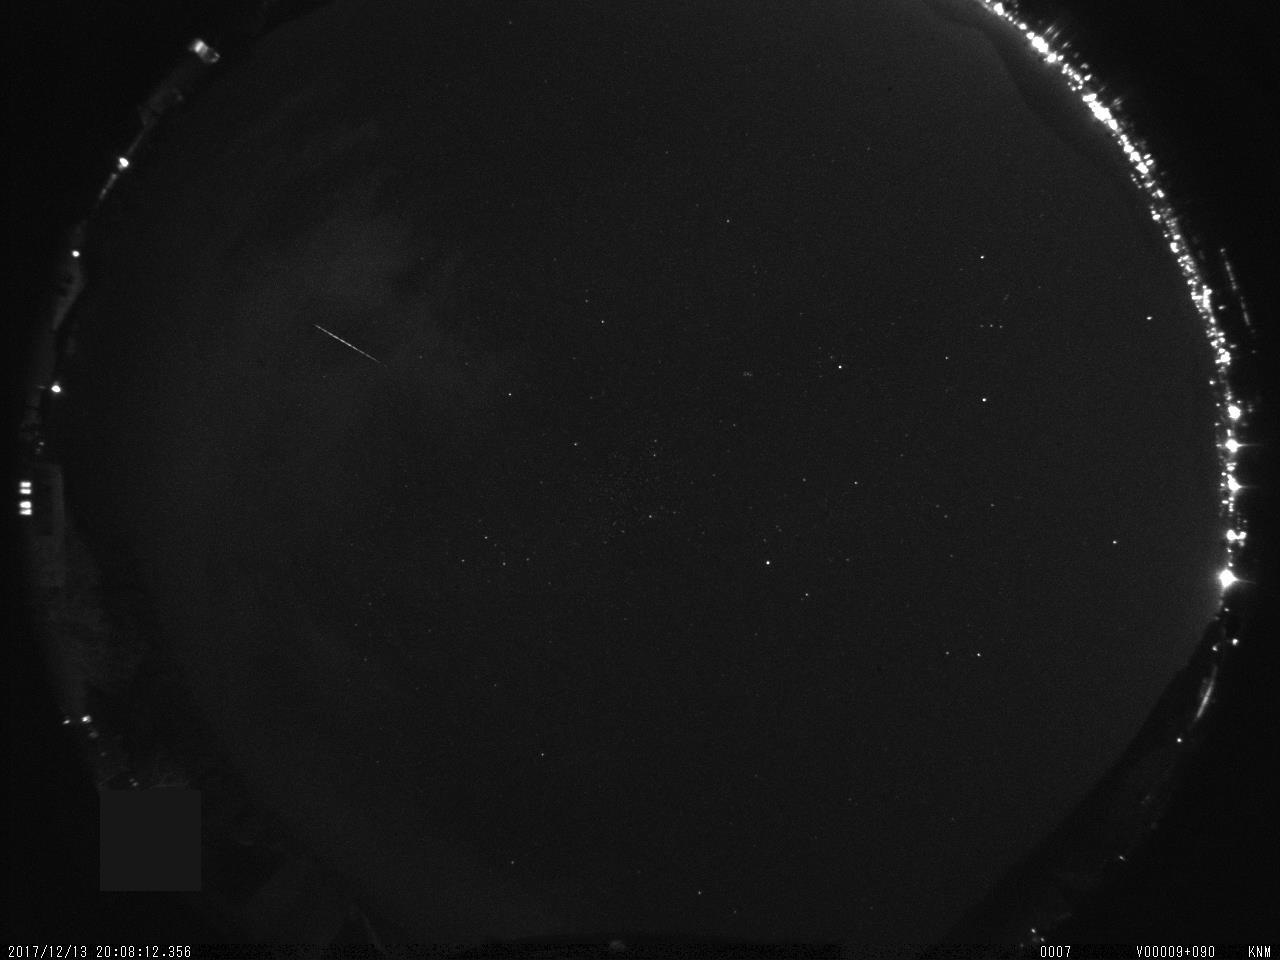meteor: (306, 315, 390, 370)
